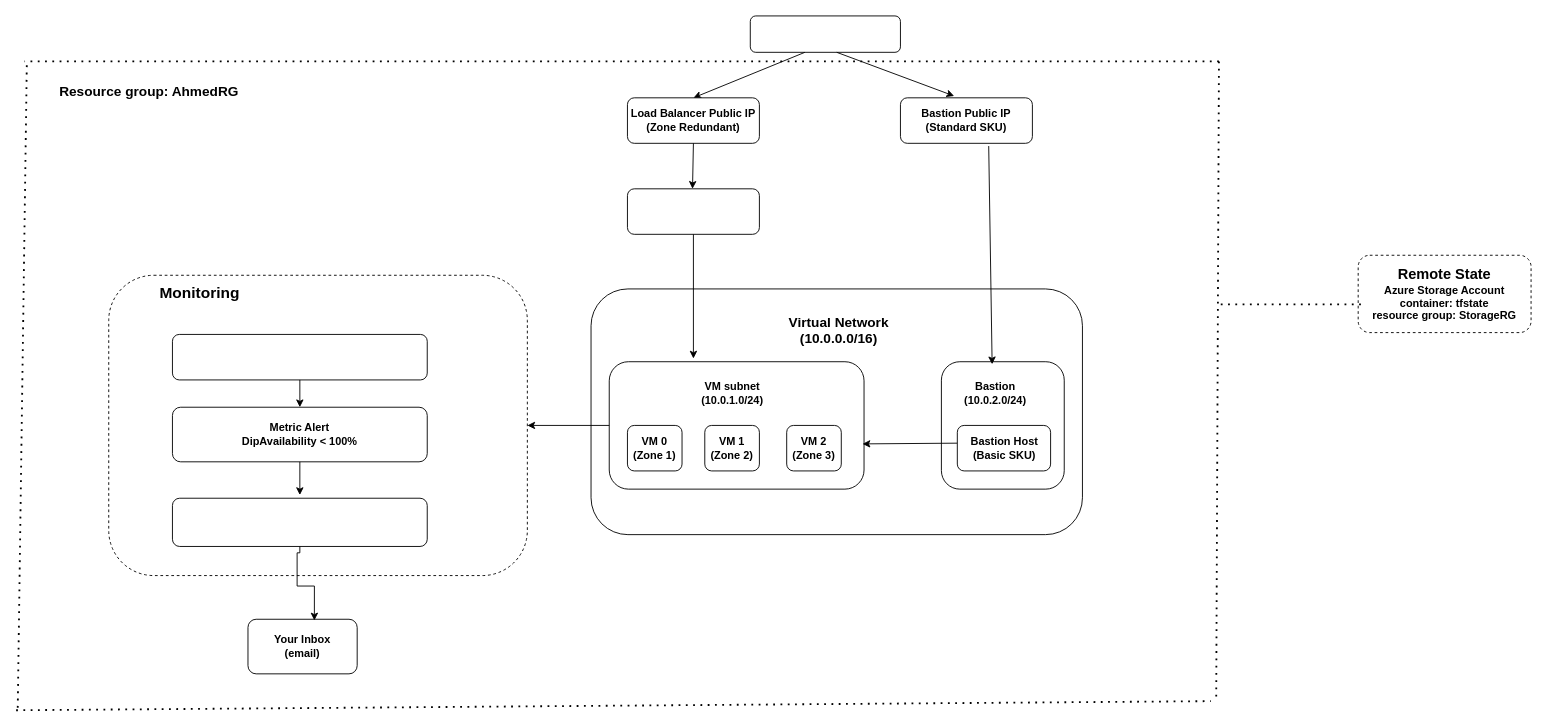
This 1548x728 diagram has some shape labels left out. The shapes that lost their labels are listed below. From the top down, each one's box as (x1, y1, x2, y2) in pixels, then its label:
(749, 15, 900, 52): Internet
(627, 188, 759, 234): Load Balancer (Zone Redundant)
(172, 334, 427, 380): Log Analytics Workspace Diagnostics: AllMetrics
(172, 497, 427, 546): Action group
